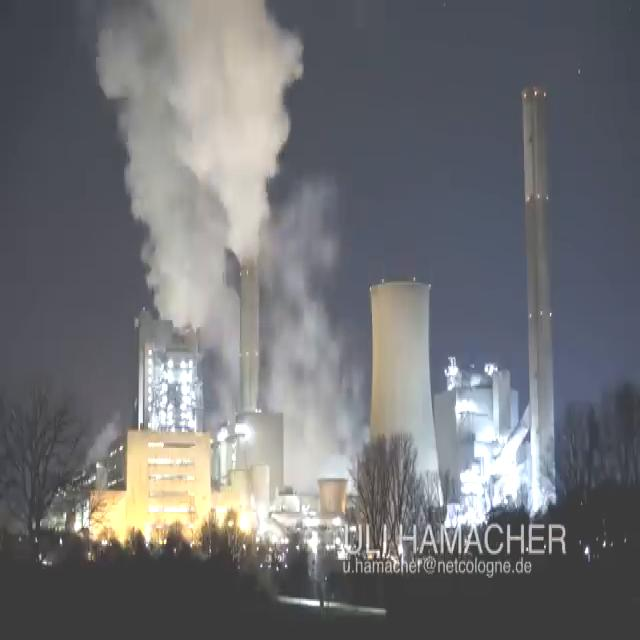smoke: (89, 0, 302, 368)
